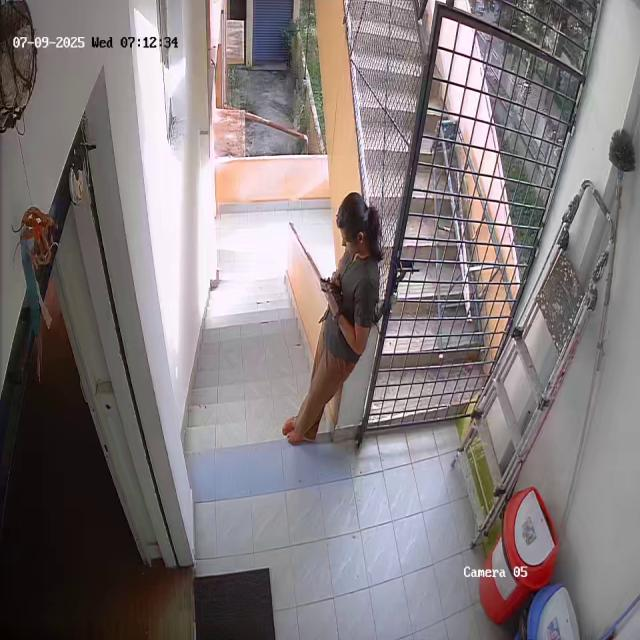person: (272, 188, 378, 444)
